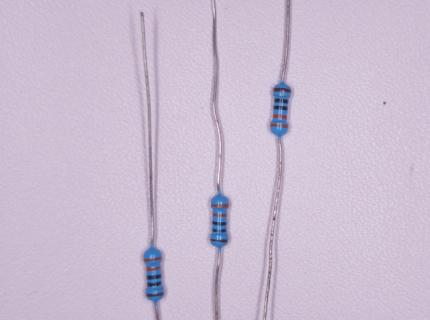Black band: (147, 281, 162, 287), (147, 274, 162, 279), (274, 106, 288, 111), (274, 99, 289, 103), (212, 221, 226, 225), (212, 229, 226, 232)
Brown band: (273, 88, 291, 93), (147, 292, 164, 297), (210, 239, 228, 243)
Orange band: (144, 256, 162, 262), (270, 123, 288, 128), (146, 266, 161, 271), (211, 204, 229, 208), (273, 114, 287, 119), (212, 213, 227, 217)
